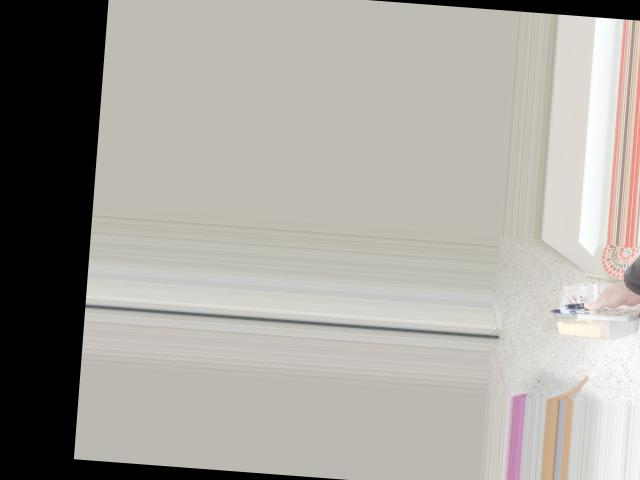cheese: (549, 249, 640, 350)
